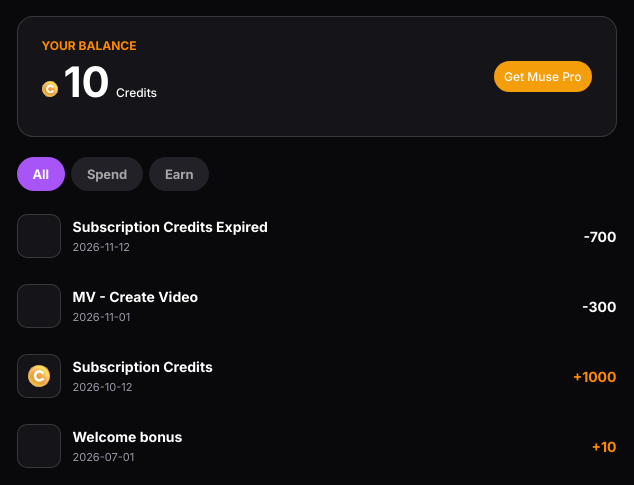
Test: subscription expiry credit history › shows the actual expired remainder as a negative row in All only
expect the text "-700" is shown: met, box [584,226,616,246]
expect the text "2026-11-12" is shown: met, box [72,240,130,254]
What coordinates should you click on to do the following:
click the button "Spend"
I would click on:
 (107, 174)
Its box is [71,157,143,191].
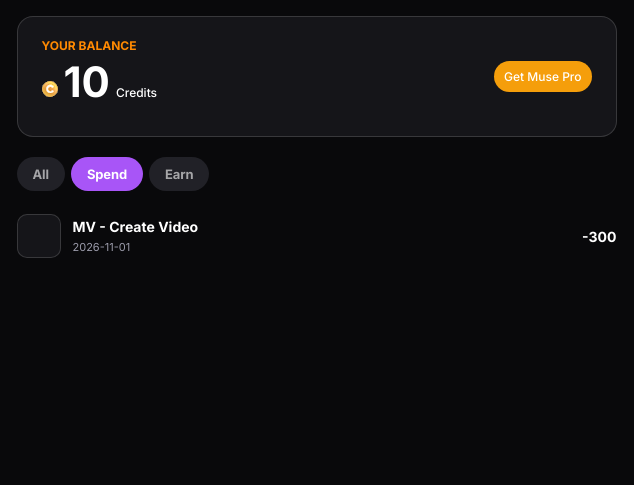
expect the text "MV - Create Video" is shown: met, box [72,218,198,235]
expect the text "Subscription Credits Expired" is gone: met
expect the text "Subscription Credits" is gone: met
What coordinates should you click on to do the following:
click the button "Earn"
I would click on:
 (179, 174)
Its box is [149,157,209,191].
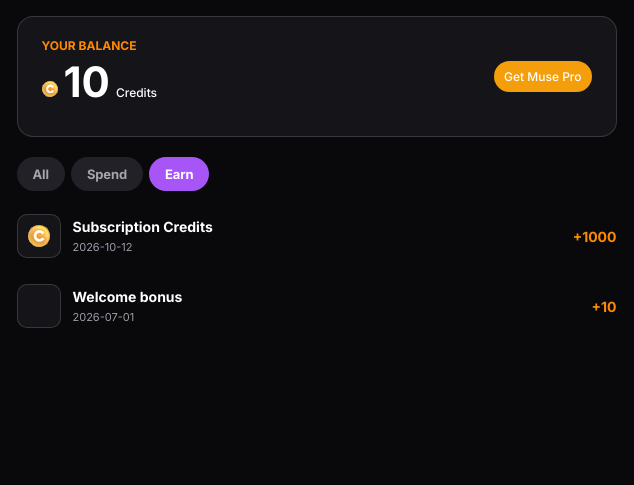
expect the text "Subscription Credits" is shown: met, box [72,218,213,235]
expect the text "Welcome bonus" is shown: met, box [72,288,182,305]
expect the text "MV - Create Video" is gone: met
What coordinates should you click on to do the following:
click the button "All"
I would click on:
 (41, 174)
Its box is [16,157,65,191].
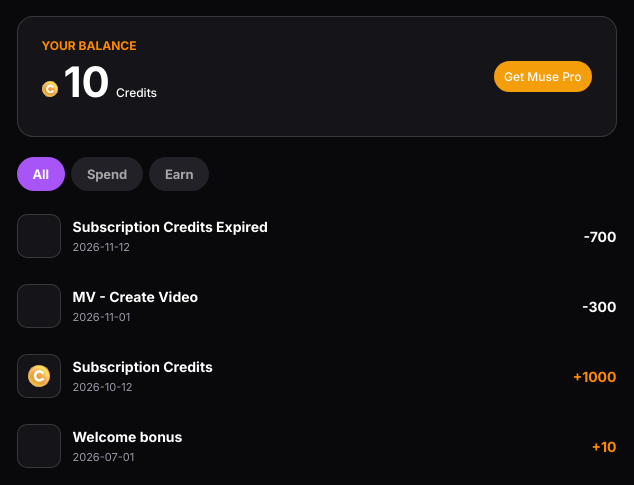
expect the text "Subscription Credits Expired" is shown: met, box [72,218,268,235]
